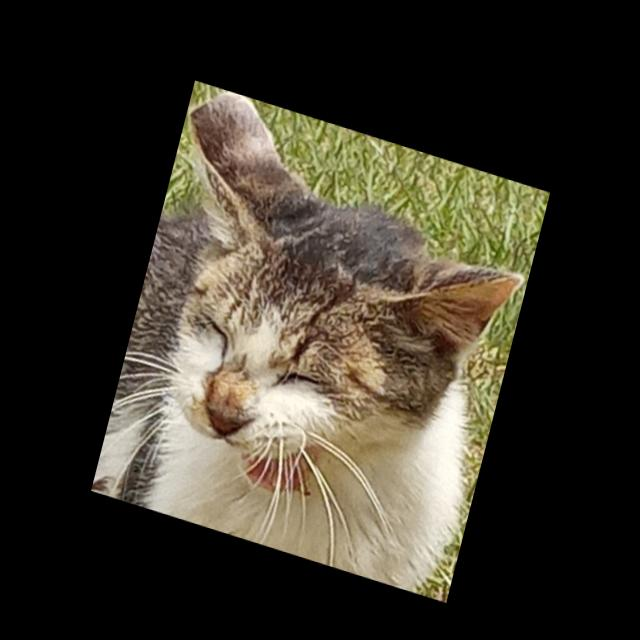animals: (100, 72, 550, 560)
